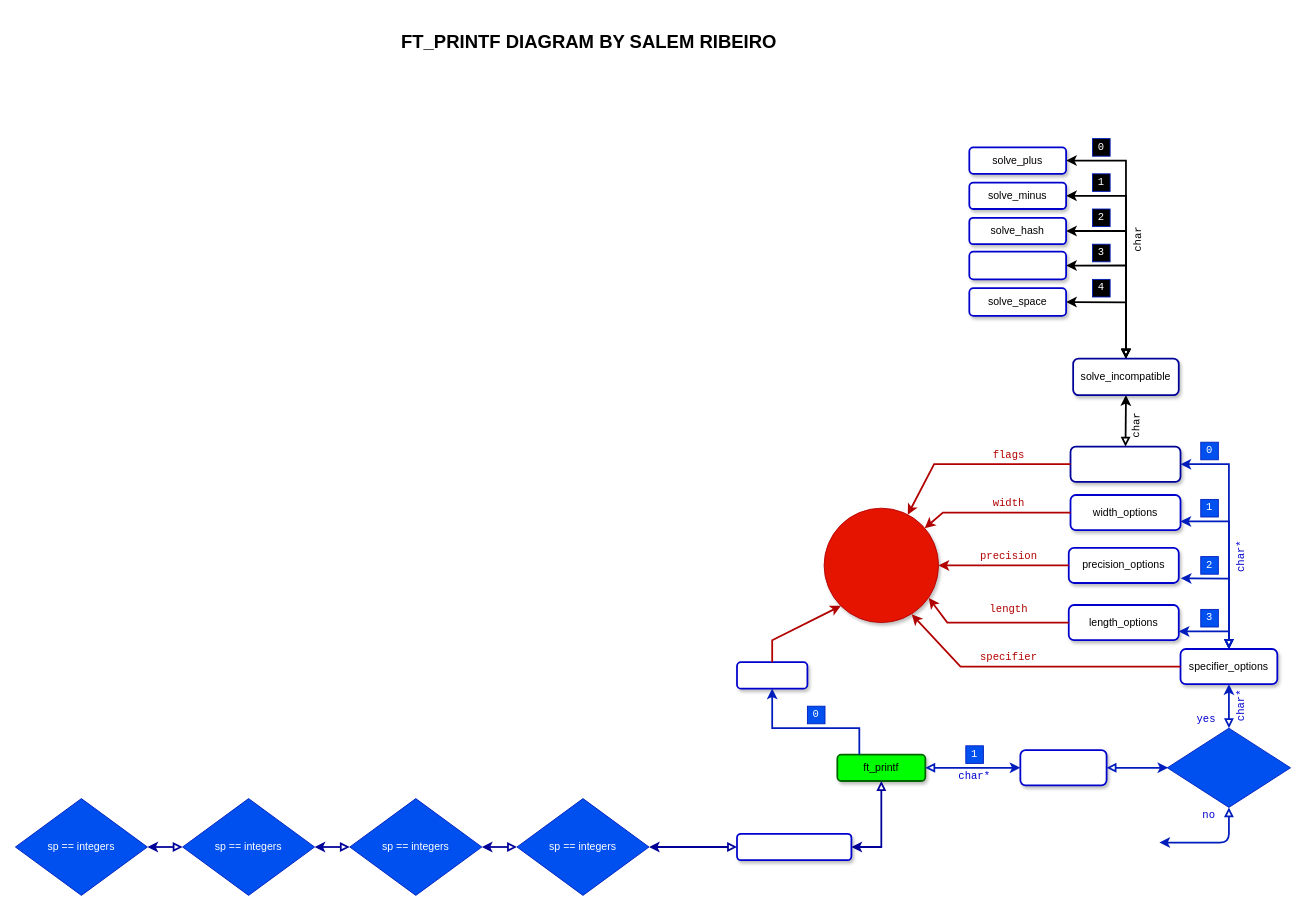
Some shapes in this 1306 by 911 pixel diagram are drawn without their labels. Here are the shapes that lost their labels. From the top down, the centre of each, then its label:
point (1018, 266): solve_zero
point (1126, 465): flag_options
point (882, 566): struct parameters
point (772, 676): clear_struct
point (1064, 768): search_persent
point (1228, 767): text[i] == '%'
point (794, 848): message_arg_solve
